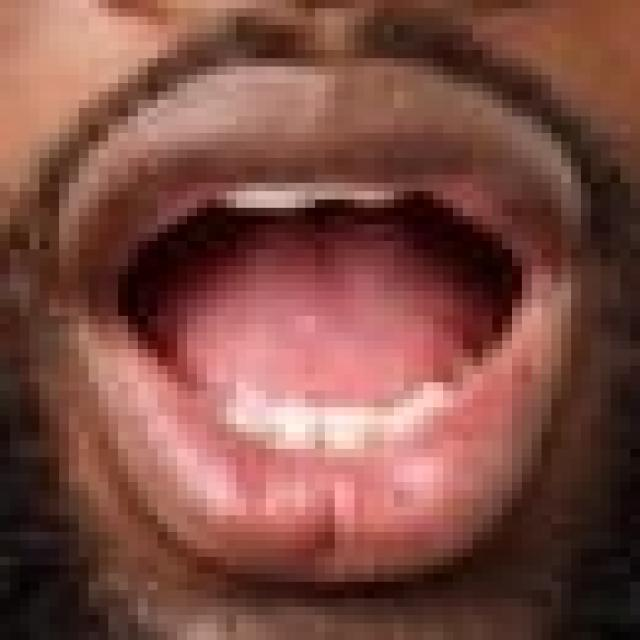open-mouth: (0, 0, 630, 590)
